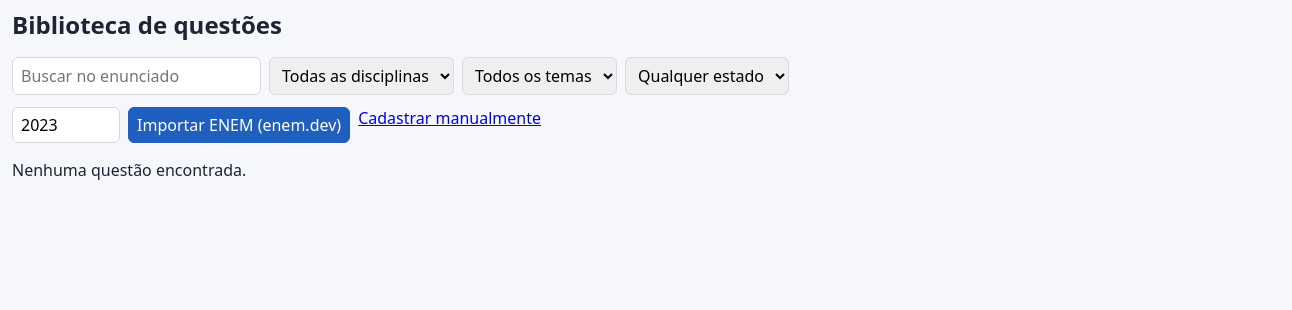
Test: Telas React › importação mostra falha e reabilita botão
The image size is (1292, 310).
Click the button "Importar ENEM (enem.dev)".
click(239, 125)  # box [128,107,350,143]
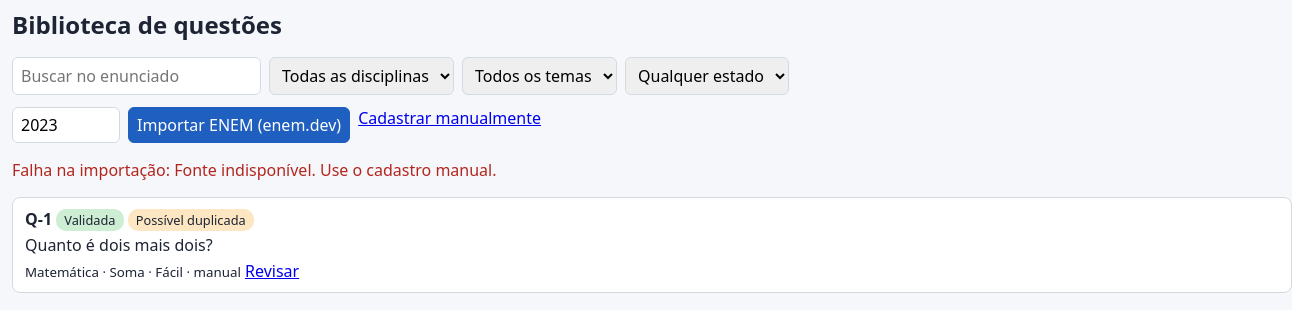
Now the text "Falha na importação: Fonte indisponível. Use o cadastro manual." is shown, box [12,159,496,181]
